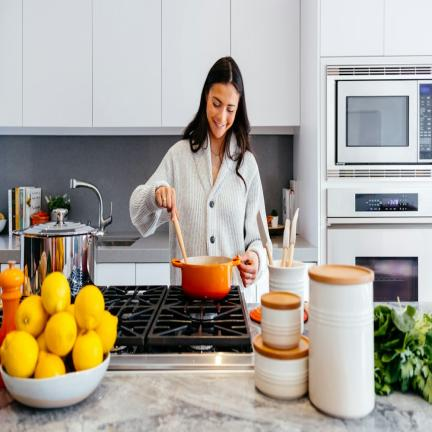air conditioner: (8, 187, 40, 234), (282, 179, 299, 224)
book: (0, 0, 91, 126), (162, 0, 230, 130), (92, 0, 161, 126), (231, 0, 299, 127), (321, 0, 432, 56), (97, 263, 171, 286)
frame: (0, 330, 38, 378), (44, 312, 76, 356), (74, 285, 105, 329), (16, 295, 47, 337), (41, 271, 70, 314), (73, 330, 103, 370), (95, 311, 118, 353), (35, 351, 66, 378)
lemon: (327, 65, 432, 179)
microwave: (130, 58, 267, 301), (170, 266, 181, 284)
person: (45, 194, 70, 221), (64, 215, 67, 220)
plant: (13, 209, 104, 295), (172, 256, 241, 299)
tree: (374, 304, 432, 403)
vegetables: (0, 135, 178, 234), (251, 135, 293, 213), (158, 225, 167, 230), (3, 226, 8, 233), (181, 224, 182, 231), (180, 222, 182, 224)
